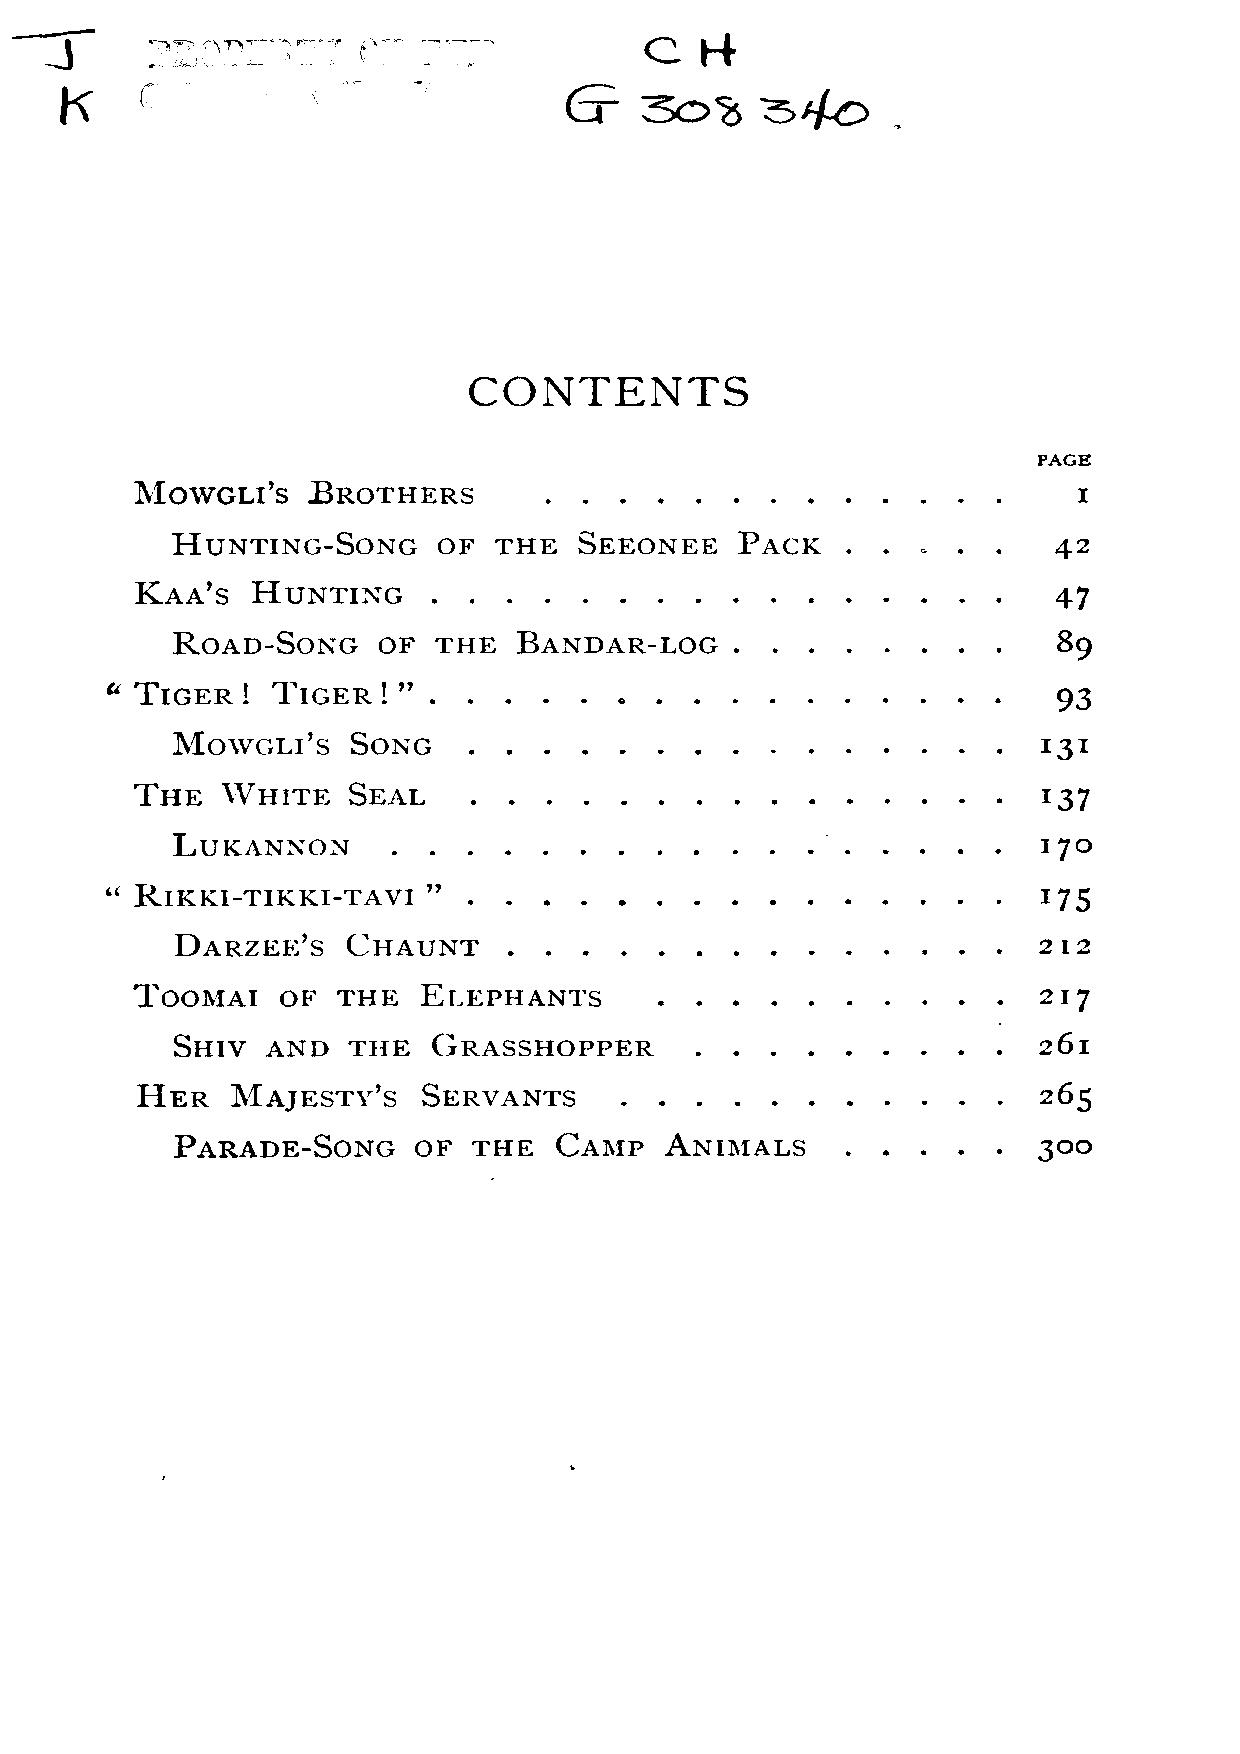TOC_chapter: (173, 1129, 813, 1161), (169, 529, 824, 560), (166, 1031, 663, 1064), (162, 627, 717, 656), (123, 981, 611, 1012), (136, 1082, 578, 1110), (127, 472, 479, 507), (101, 880, 446, 913), (168, 926, 484, 960), (101, 678, 416, 709), (129, 778, 433, 809), (168, 726, 433, 760), (132, 577, 416, 608), (166, 829, 361, 862)
TOC_pagenumber: (1036, 1133, 1102, 1166), (1040, 1082, 1096, 1117), (1040, 882, 1095, 915), (1036, 782, 1088, 815), (1039, 733, 1095, 762), (1037, 833, 1096, 862), (1055, 621, 1094, 662), (1036, 984, 1088, 1013), (1039, 931, 1096, 957), (1037, 1031, 1088, 1059), (1049, 533, 1090, 562), (1052, 582, 1088, 611), (1055, 684, 1092, 711), (1072, 479, 1092, 505)
chapter: (467, 370, 753, 407)
